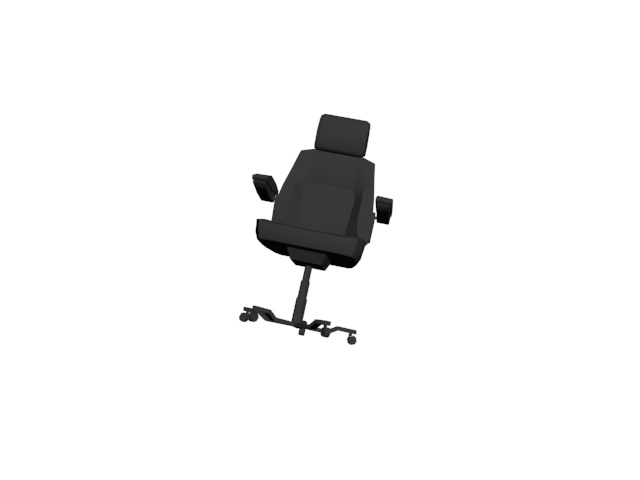desk_chair: (233, 113, 400, 352)
